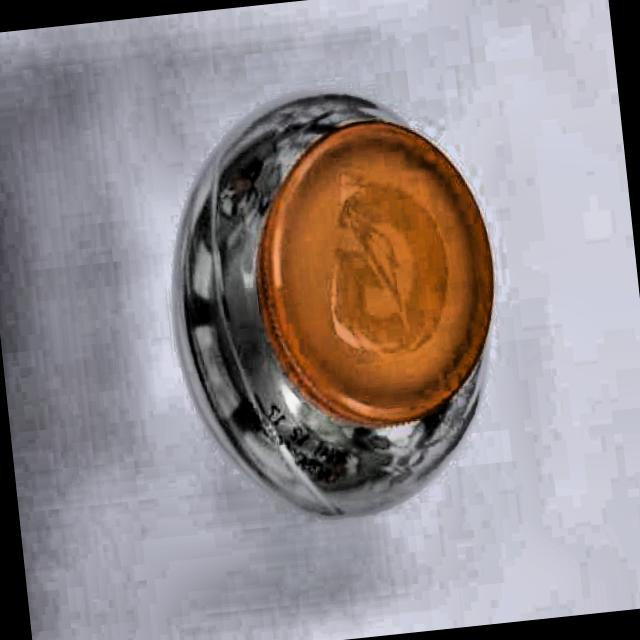plastic bottle: (172, 91, 493, 515)
